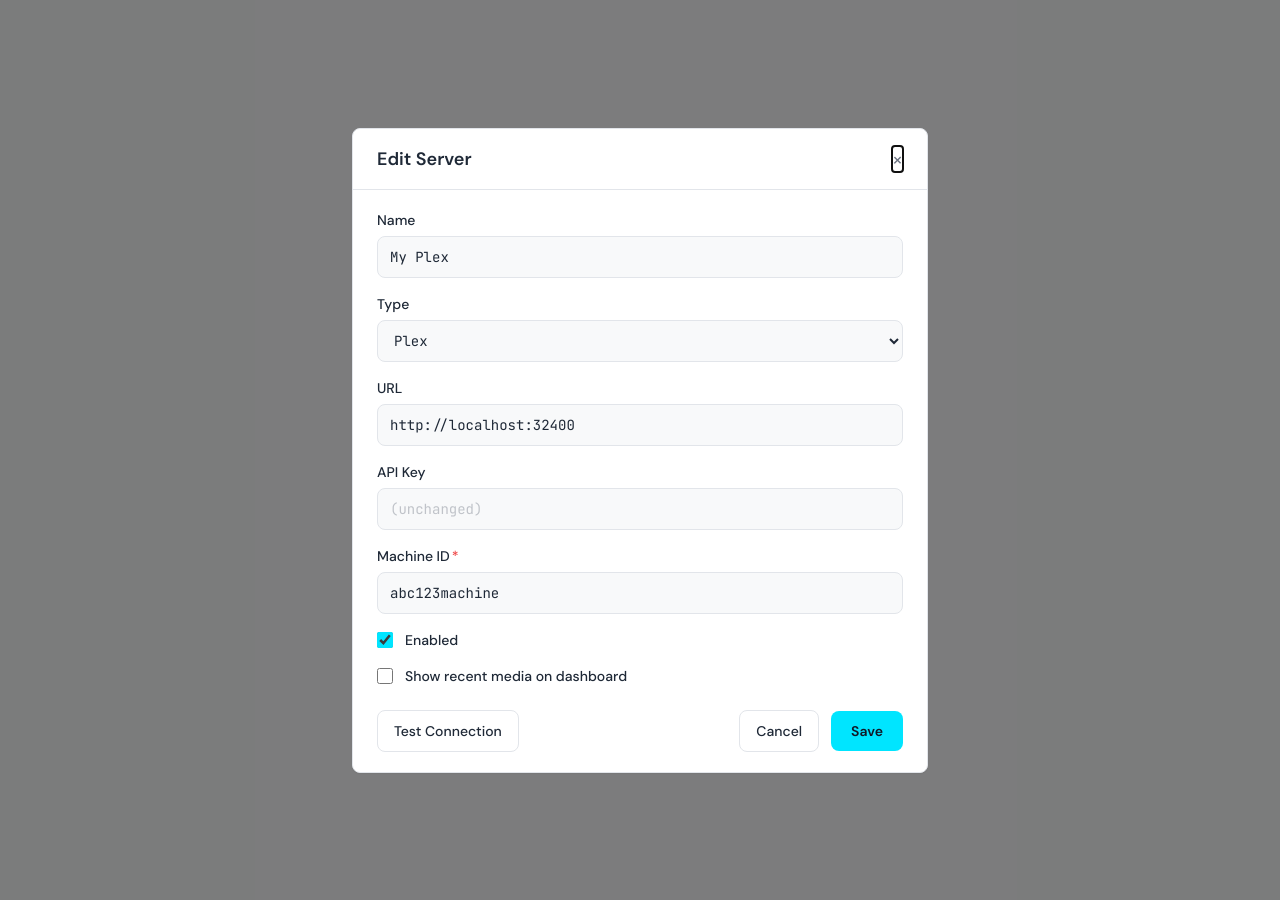
Test: ServerForm › shows test connection failure
This screenshot has width=1280, height=900.
Click the button "Test Connection": [448, 730] box [377,710,519,752]
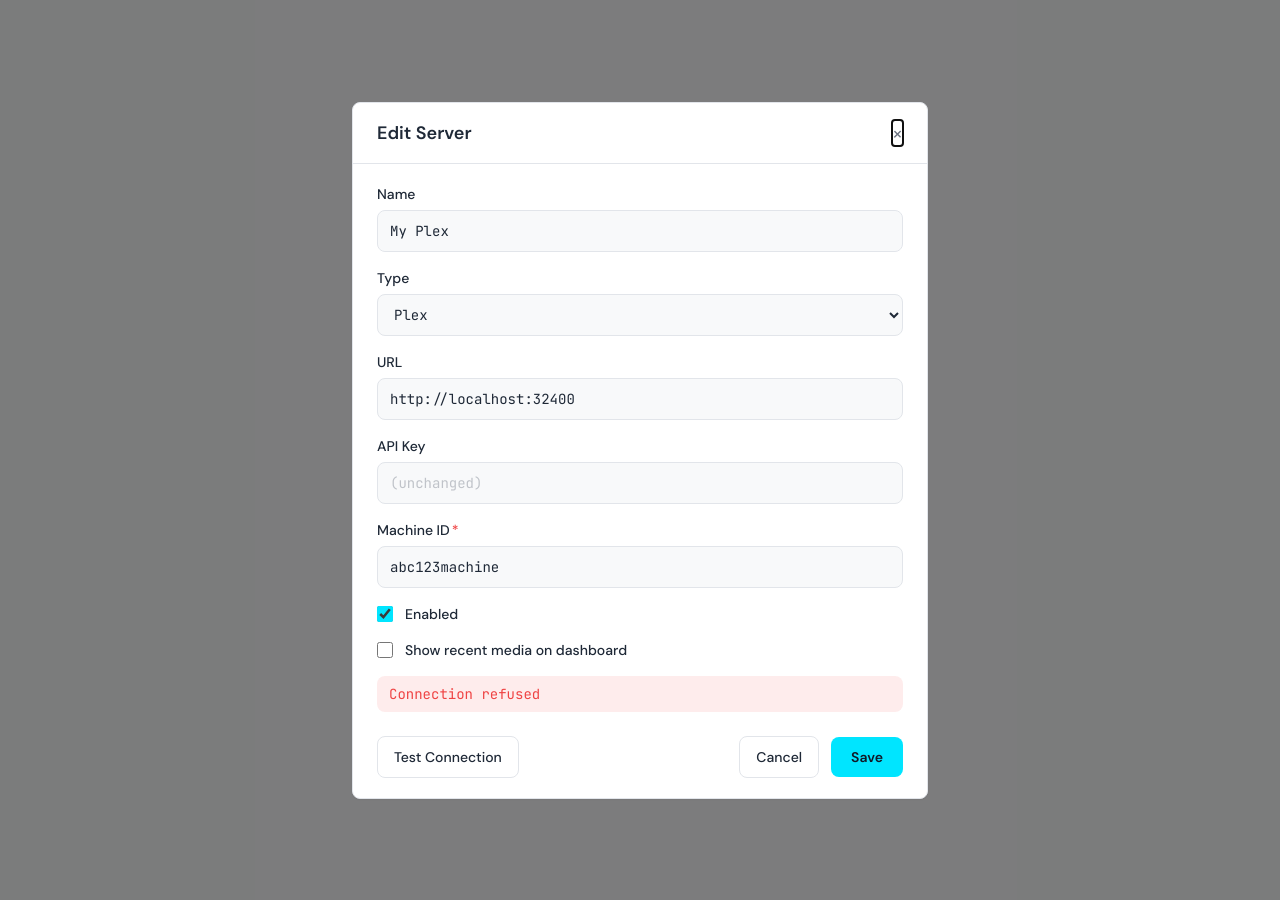
Expected: the text "Connection refused" is shown, [377,676,903,712]
